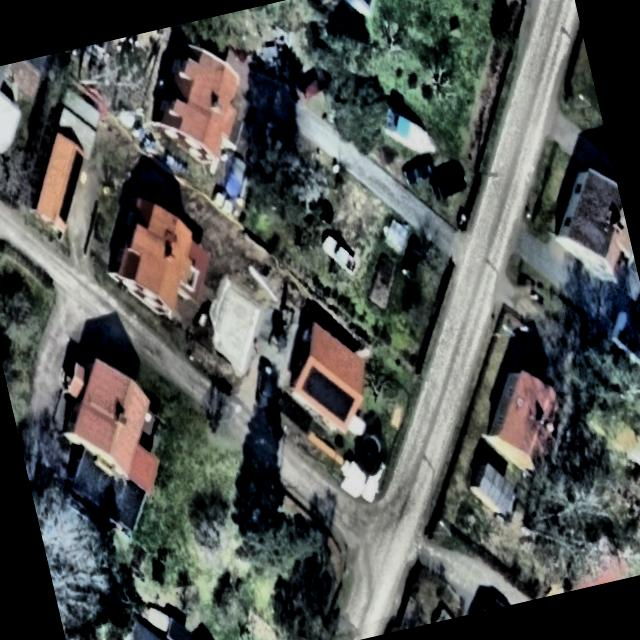roof_pv: (296, 355, 358, 430), (56, 142, 95, 201), (48, 187, 80, 225)
